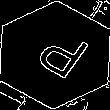P_SW: (22, 24, 88, 86)
